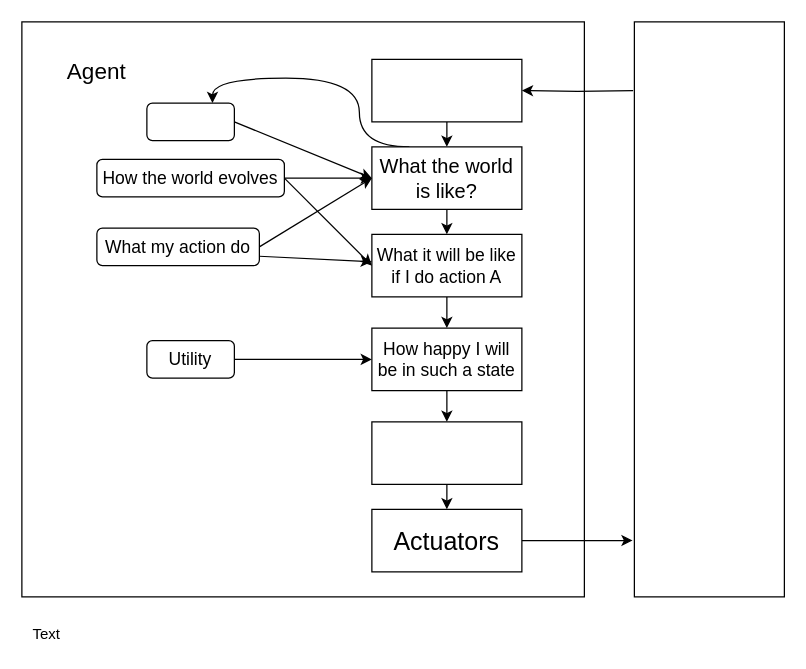
Image size: 806x669. Some labels were removed from this diagram. Each missing label, with the centre of its shape:
"Envrionment" belongs at (x=708, y=309).
"Sensors" belongs at (x=446, y=90).
"State" belongs at (x=190, y=121).
"What action should I do?" belongs at (x=446, y=452).
